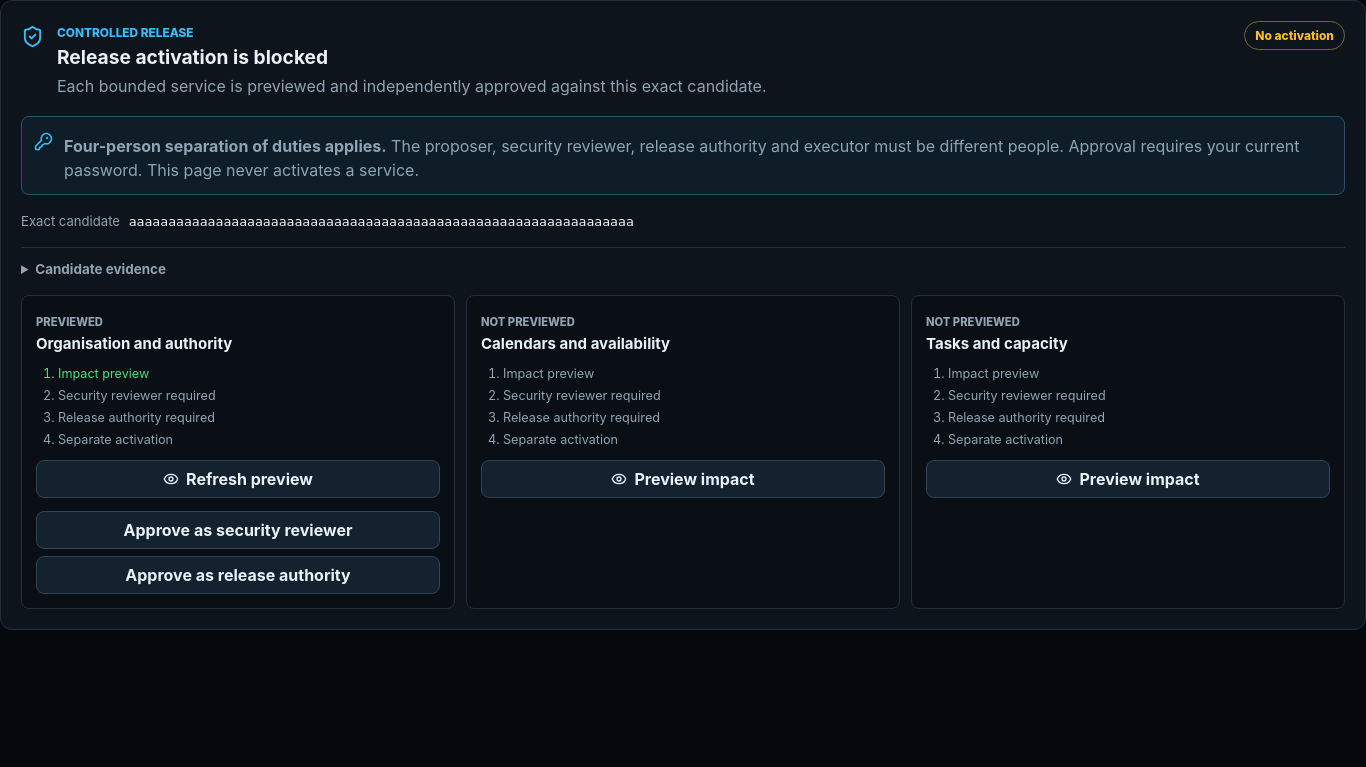
shows three bounded slices and explains the four-person ceremony
This screenshot has width=1366, height=767.
Expected: the heading "Release activation is blocked" is shown, [57, 45, 328, 69]
Expected: the text "Four-person separation of duties applies." is shown, [64, 136, 387, 156]
Click the heading "Candidate evidence" at (93, 269), box [21, 261, 166, 277]
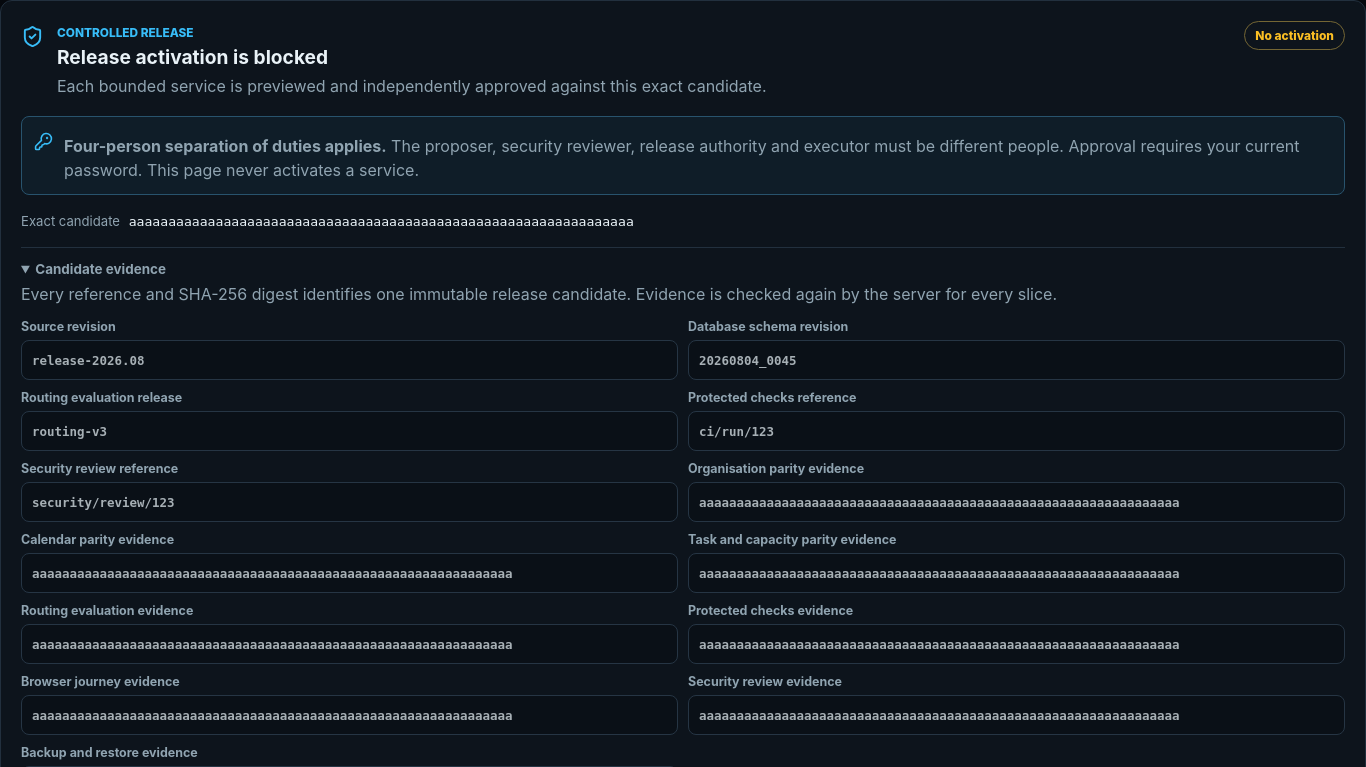
Expected: the field showing "release-2026.08" is disabled, [21, 340, 678, 380]
